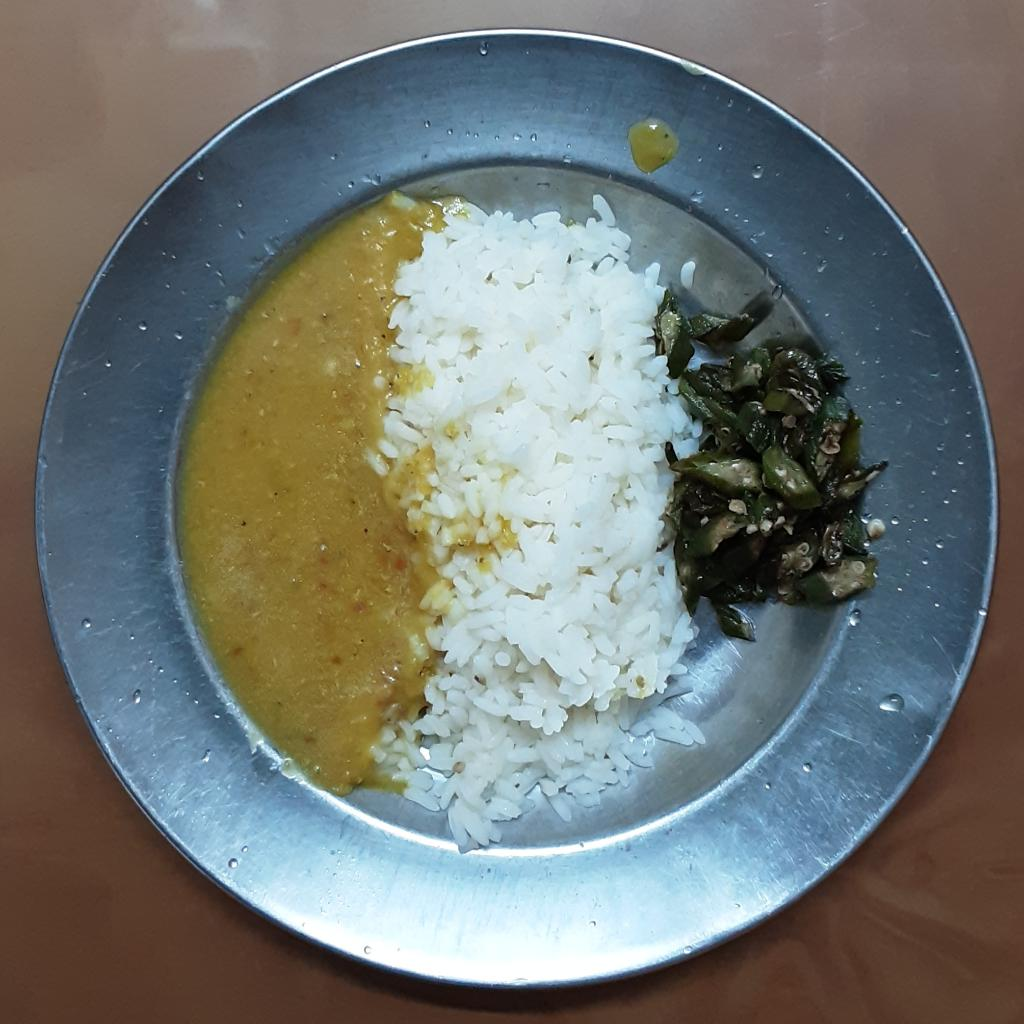daal: (171, 193, 440, 800)
okra: (666, 292, 886, 647)
rice: (363, 183, 707, 852)
